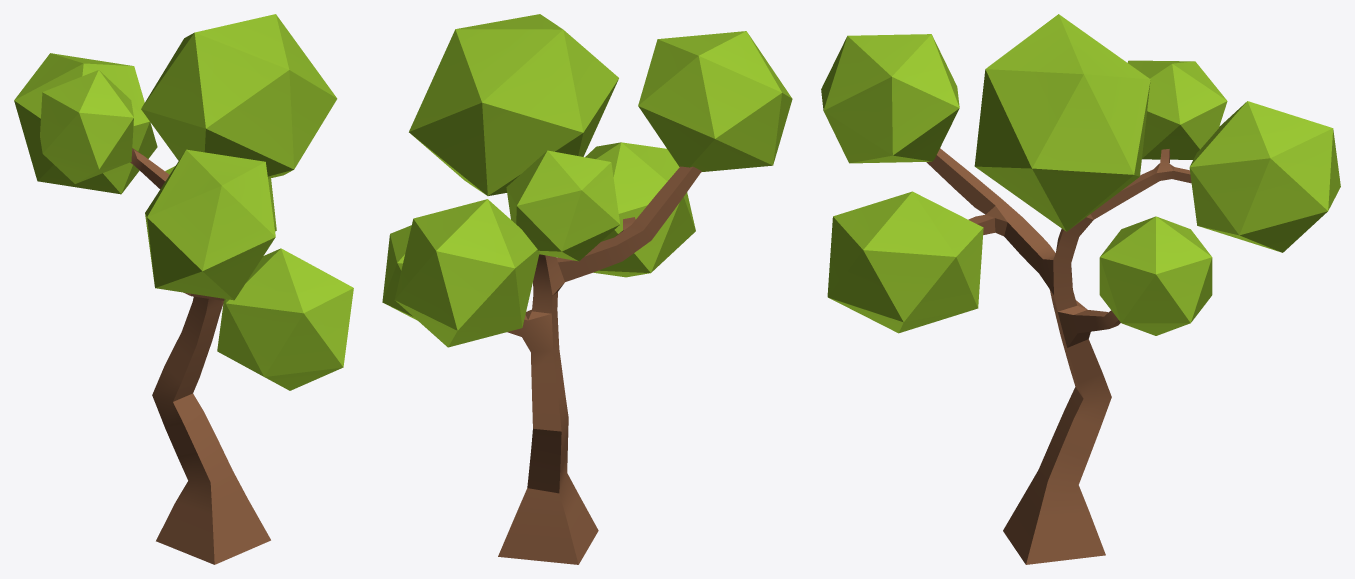
Rendered from Tree.obj.
3 views of the same model, side by side, from view 1: azimuth 30°, elevation 25°; view 2: azimuth 150°, elevation 25°; view 3: azimuth 270°, elevation 25° (orthographic).
Visible parts, largest first — view 1: Icosphere; view 2: Icosphere; view 3: Icosphere.
Part boxes in pixels (x1=…): Icosphere: x1=14, y1=14, x2=353, y2=564; Icosphere: x1=382, y1=14, x2=792, y2=564; Icosphere: x1=821, y1=14, x2=1340, y2=564.
Size of the model in its own units: 4.65 by 8.7 by 7.86.
